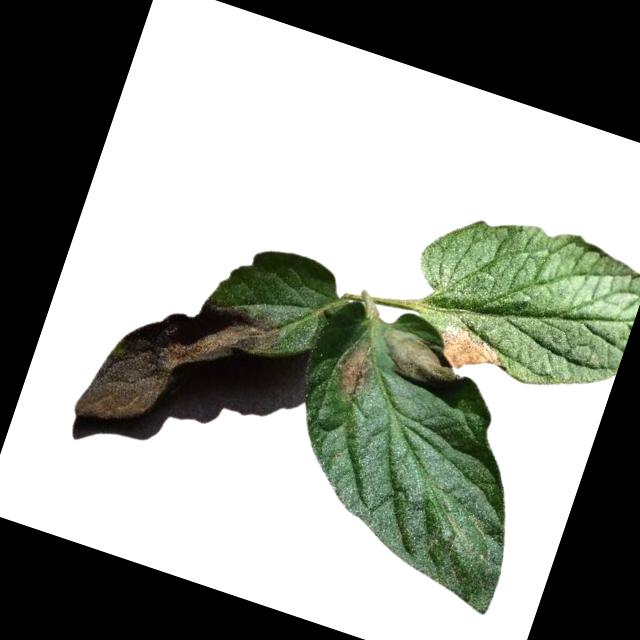Late_blight: (72, 267, 288, 468), (370, 324, 471, 400), (425, 318, 507, 382), (327, 331, 385, 402)
